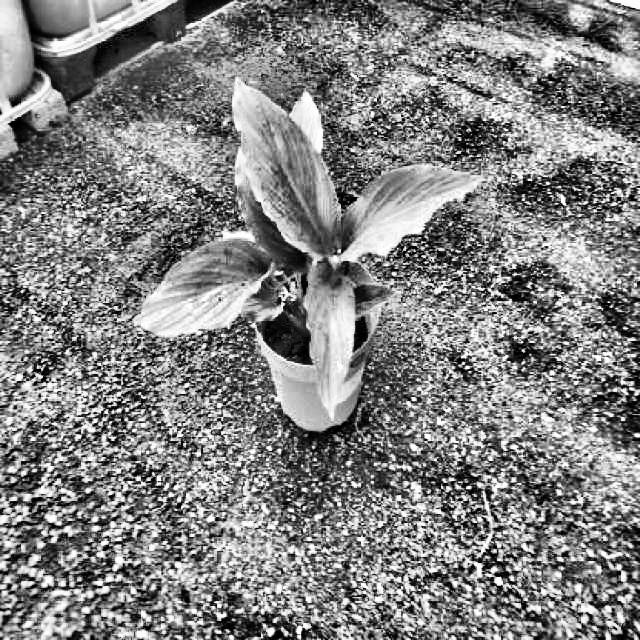plants: (134, 78, 482, 422)
